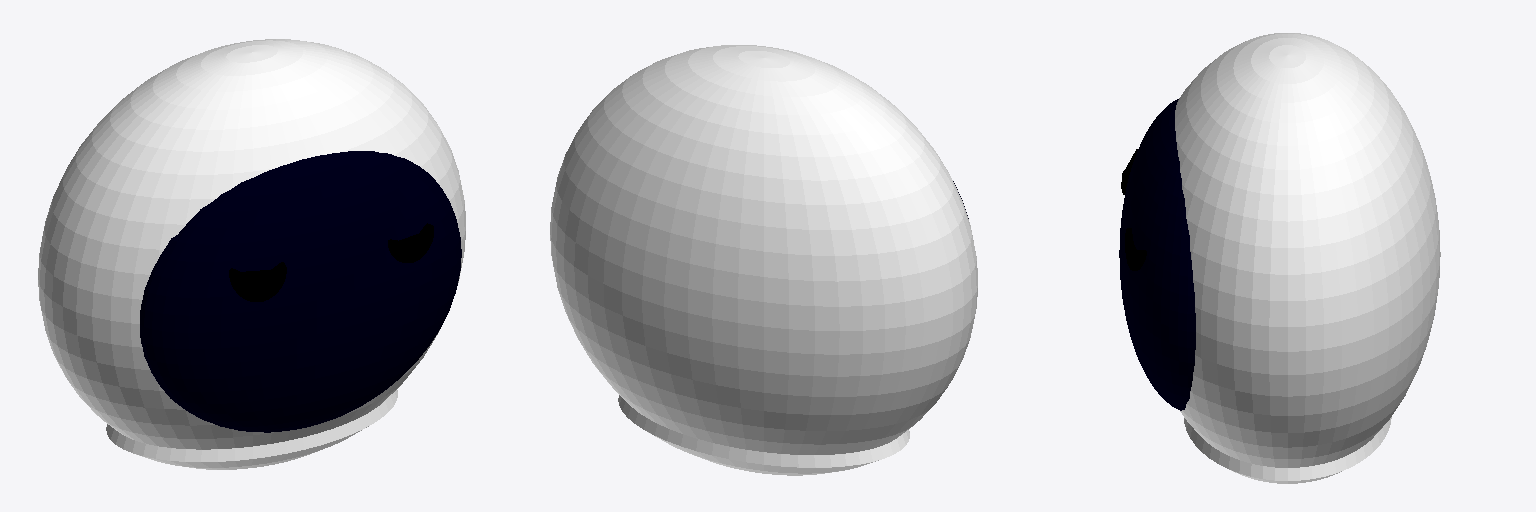
File: Robot.obj
3 views of the same model, side by side, from view 1: azimuth 30°, elevation 25°; view 2: azimuth 150°, elevation 25°; view 3: azimuth 270°, elevation 25° (orthographic).
Visible parts, largest first — view 1: Head, Front, Right_eye, Left_eye; view 2: Head; view 3: Head, Front, Left_eye.
Part boxes in pixels (x1,y1,x2,y2): Head: (38, 39, 465, 469); Front: (140, 151, 461, 432); Right_eye: (229, 262, 286, 301); Left_eye: (388, 223, 433, 262); Head: (550, 45, 977, 475); Head: (1175, 33, 1440, 483); Front: (1119, 99, 1195, 410); Left_eye: (1125, 228, 1146, 270).
Size of the model in its own units: 65.27 by 62.56 by 45.36.